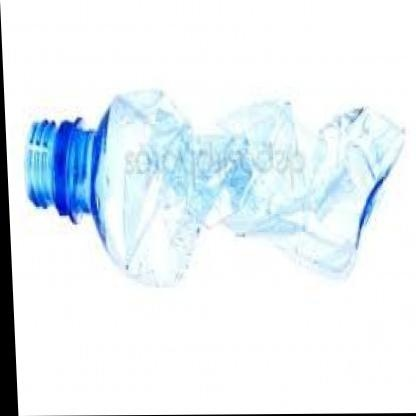trash: (26, 90, 402, 285)
